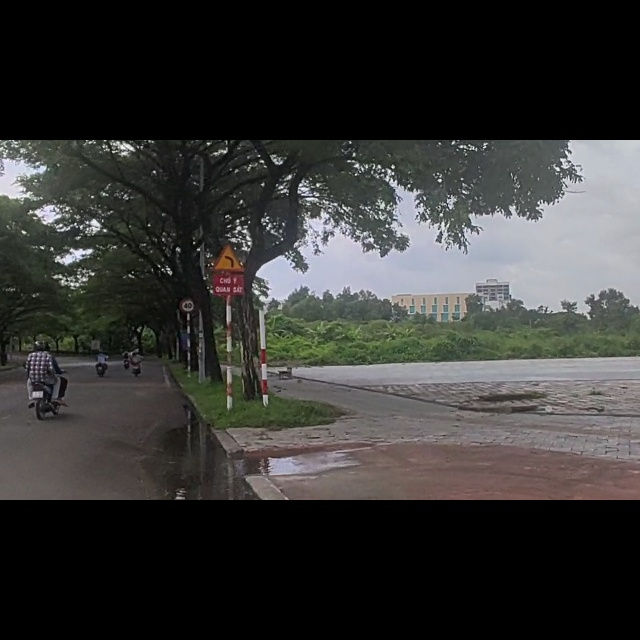bien_nguy_hiem: (211, 184, 250, 235), (179, 280, 196, 305)
